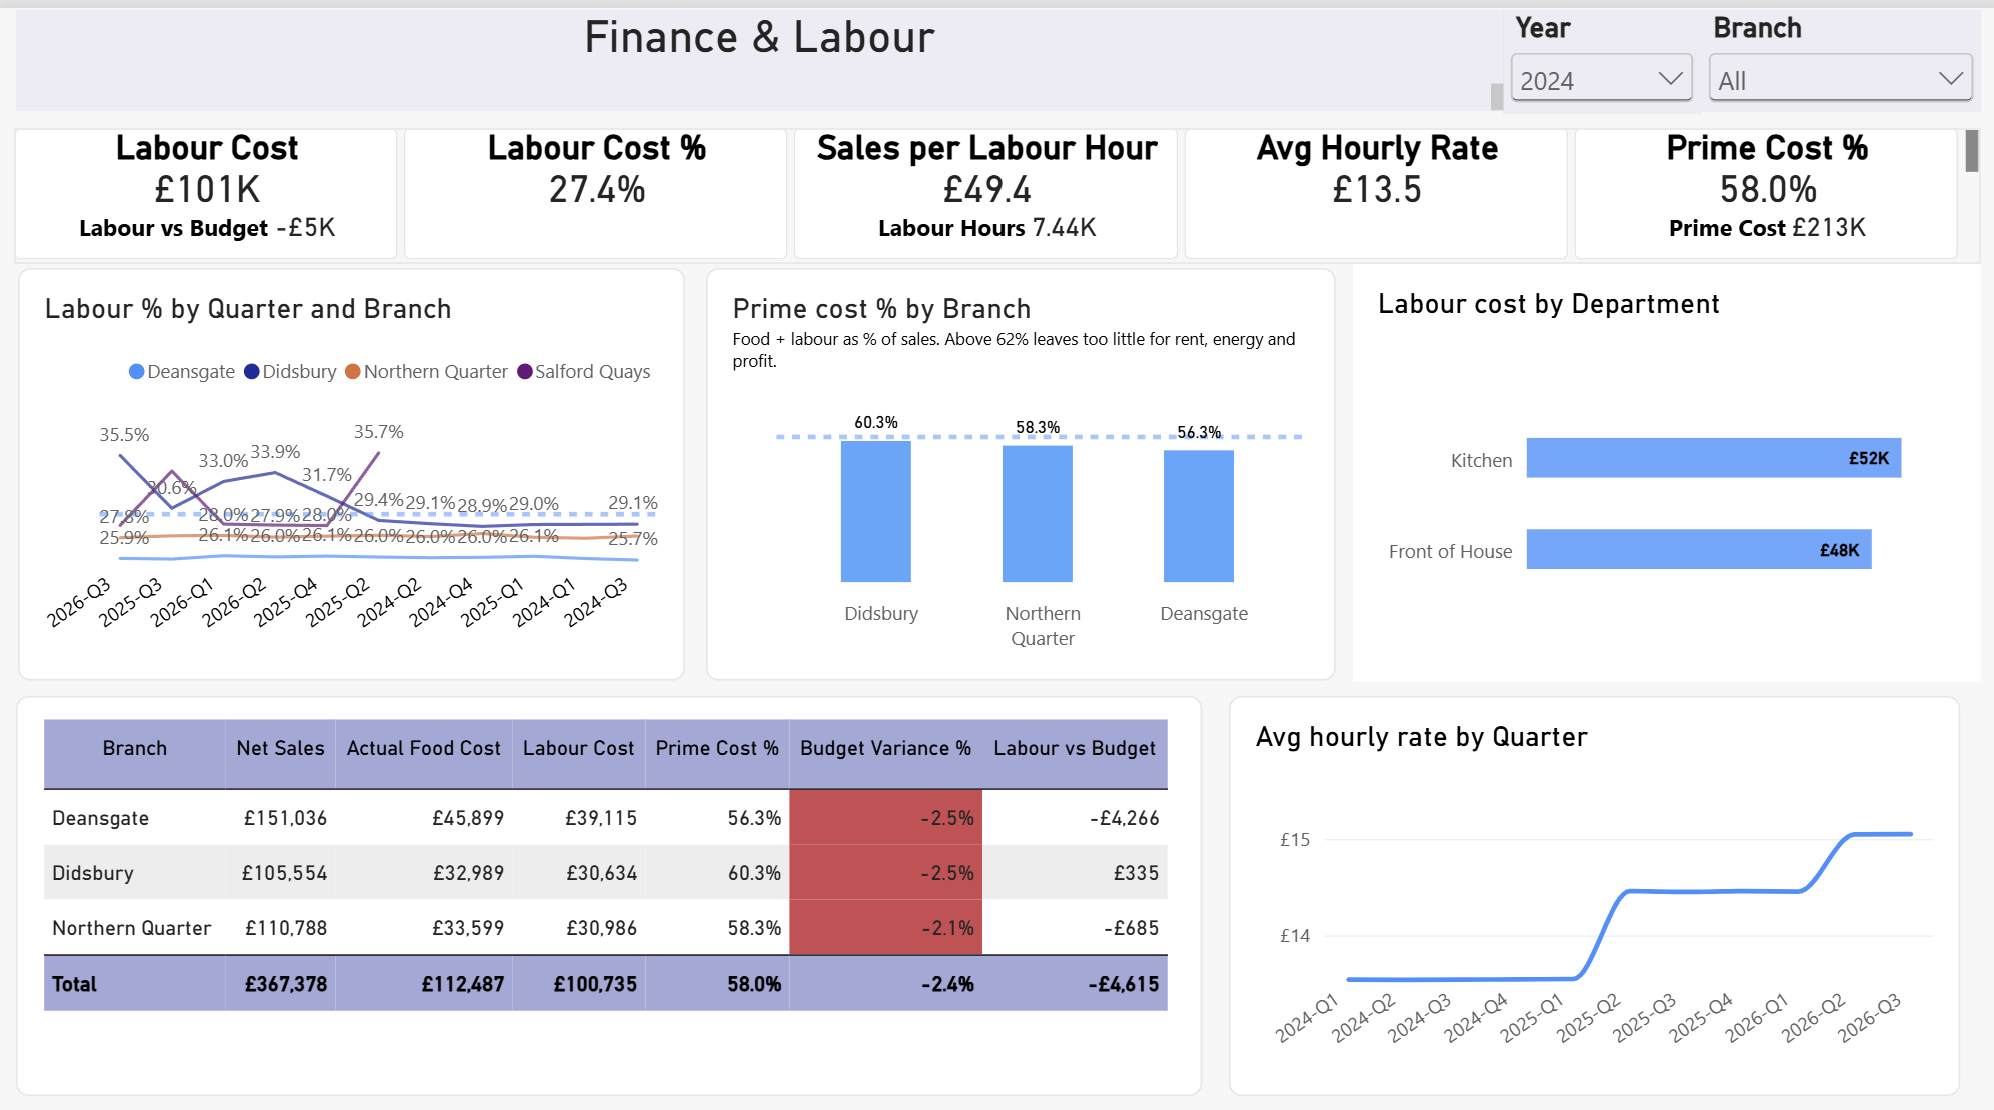

Layout of this report page (visuals, bound fields, positions):
{"tool":"powerbi","page":{"name":"Finance & Labour","canvas":[1280,720],"ordinal":4},"visuals":[{"type":"slicer","fields":{"Values":["dim_date.year"]},"box":[962.5,1.4,126.2,66.2],"z":0},{"type":"slicer","fields":{"Values":["dim_branch.branch_name"]},"box":[1087.9,1.5,178.8,65.2],"z":1000},{"type":"cardVisual","fields":{"Data":["_Measures.Labour Cost","_Measures.Labour Cost %","_Measures.Sales per Labour Hour","_Measures.Avg Hourly Rate","_Measures.Prime Cost %","_Measures.Group Avg Rating","_Measures.Group Food Cost Variance %","_Measures.Group Labour Cost %","_Measures.Group No-show Rate","_Measures.Group Prime Cost %","_Measures.Group Waste %"]},"box":[12.1,77.3,1254.5,86.4],"z":2000},{"type":"textbox","title":"Finance & Labour","box":[12.9,1.4,949.6,64.6],"z":3000},{"type":"clusteredBarChart","title":"Labour cost by Department","fields":{"Category":["dim_role.department","dim_role.role_name"],"Y":["_Measures.Labour Cost"]},"box":[866.3,163.8,400.8,267.2],"z":4000},{"type":"clusteredColumnChart","title":"Prime cost % by Branch","fields":{"Category":["dim_branch.branch_name"],"Y":["_Measures.Prime Cost %"]},"box":[453,166.7,401.5,263.6],"z":5000},{"type":"lineChart","title":"Labour % by Quarter and Branch","fields":{"Category":["dim_date.year_quarter"],"Series":["dim_branch.branch_name"],"Y":["_Measures.Labour Cost %"]},"box":[13.6,166.7,425.8,263.6],"z":6000},{"type":"tableEx","title":"Net Sales vs Last Year","fields":{"Values":["dim_branch.branch_name","_Measures.Net Sales","_Measures.Actual Food Cost","_Measures.Labour Cost","_Measures.Prime Cost %","_Measures.Budget Variance %","_Measures.Labour vs Budget"]},"box":[12.9,439.6,757.1,255.7],"z":7000},{"type":"lineChart","title":"Avg hourly rate by Quarter","fields":{"Category":["dim_date.year_quarter"],"Y":["_Measures.Avg Hourly Rate"]},"box":[787.3,439.6,466.9,255.7],"z":8000}]}

Visuals, with their boxes in screenshot pixels (x1, y1, x2, y2), scaled from the page's 1280x720 canvas onto the 1994x1110 screenshot:
slicer - dim_date.year: box=[1499, 2, 1696, 104]
slicer - dim_branch.branch_name: box=[1695, 2, 1973, 103]
cardVisual - _Measures.Labour Cost x _Measures.Labour Cost %: box=[19, 119, 1973, 252]
"Finance & Labour" textbox: box=[20, 2, 1499, 102]
"Labour cost by Department" clusteredBarChart: box=[1350, 253, 1974, 664]
"Prime cost % by Branch" clusteredColumnChart: box=[706, 257, 1331, 663]
"Labour % by Quarter and Branch" lineChart: box=[21, 257, 685, 663]
"Net Sales vs Last Year" tableEx: box=[20, 678, 1200, 1072]
"Avg hourly rate by Quarter" lineChart: box=[1226, 678, 1954, 1072]
